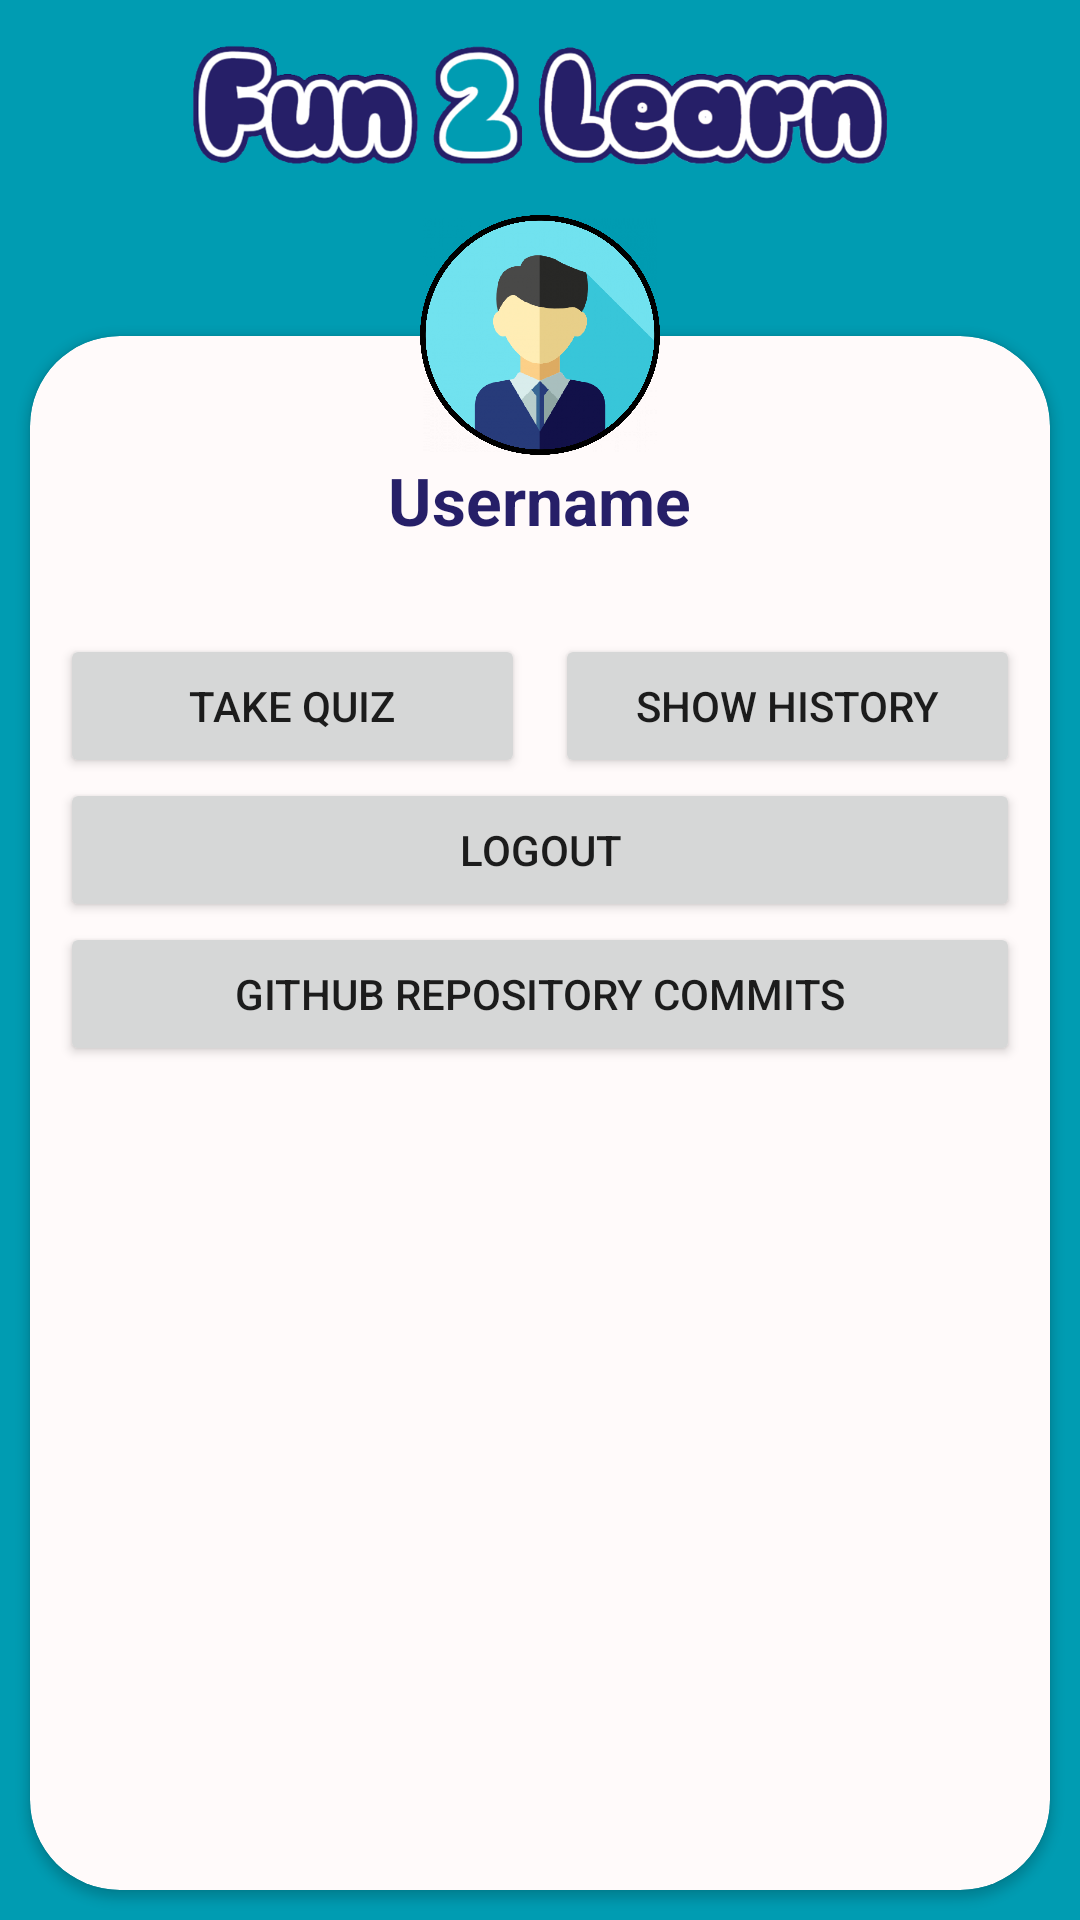

Icons on this 1080px x 1920px Android screen, each with the point to tap as (x,y):
user icon: (540,335)
